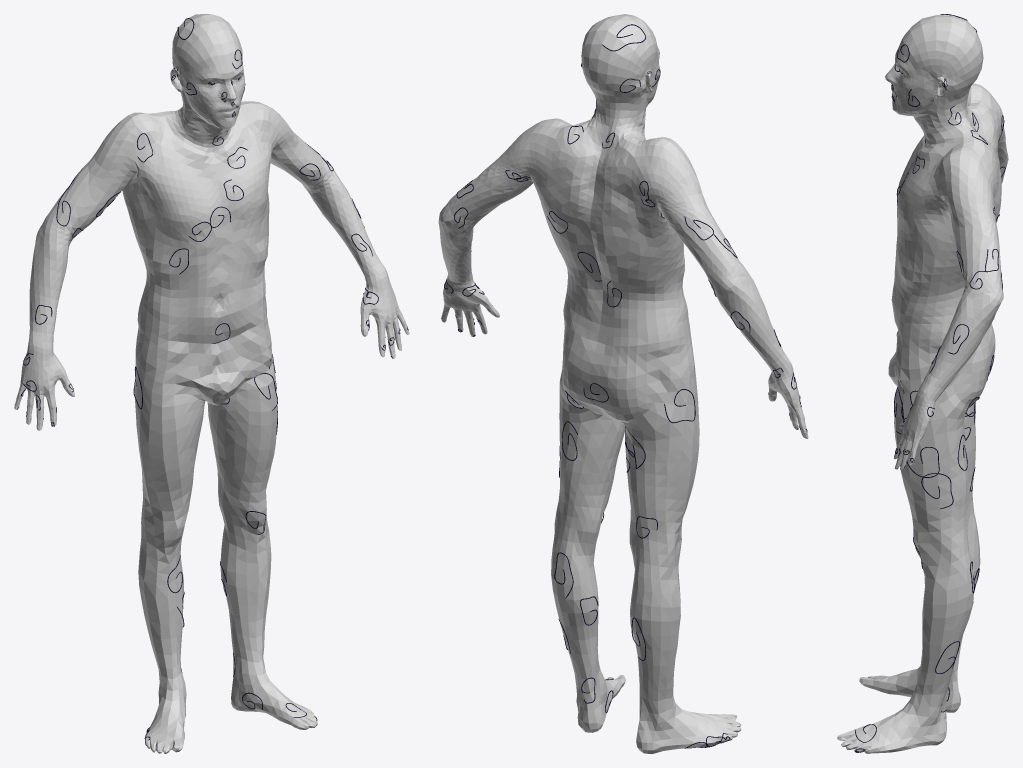
The model's file is body_spiral_repositioned.glb.
3 views of the same model, side by side, from view 1: azimuth 30°, elevation 25°; view 2: azimuth 150°, elevation 25°; view 3: azimuth 270°, elevation 25° (orthographic). The views are drawn at different scales.
Parts seen in each view (by area): view 1: imagetostl_mesh0; view 2: imagetostl_mesh0; view 3: imagetostl_mesh0.
Part boxes in pixels (box(x1,y1,x2,y2)): imagetostl_mesh0: box(14, 14, 409, 753); imagetostl_mesh0: box(438, 14, 808, 753); imagetostl_mesh0: box(837, 14, 1008, 753).
Size of the model in its own units: 1 by 1.78 by 0.3908.
